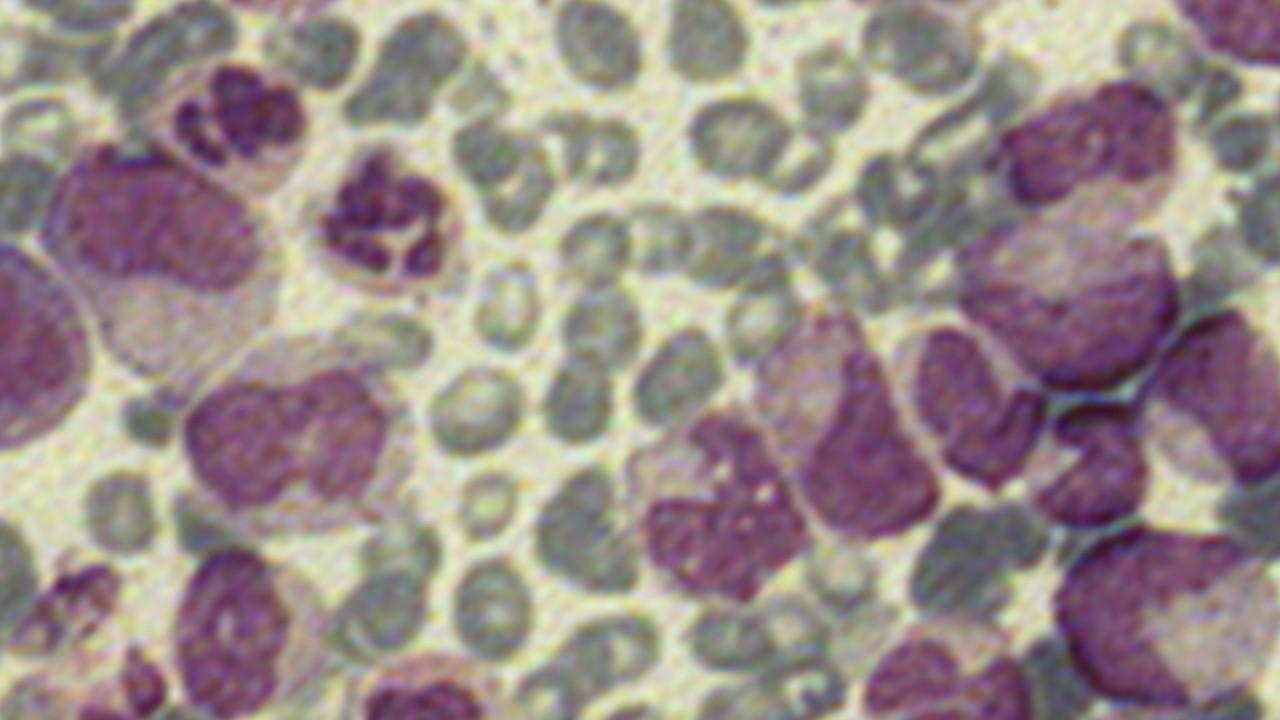RBC: (447, 552, 538, 666), (1234, 159, 1280, 279)
